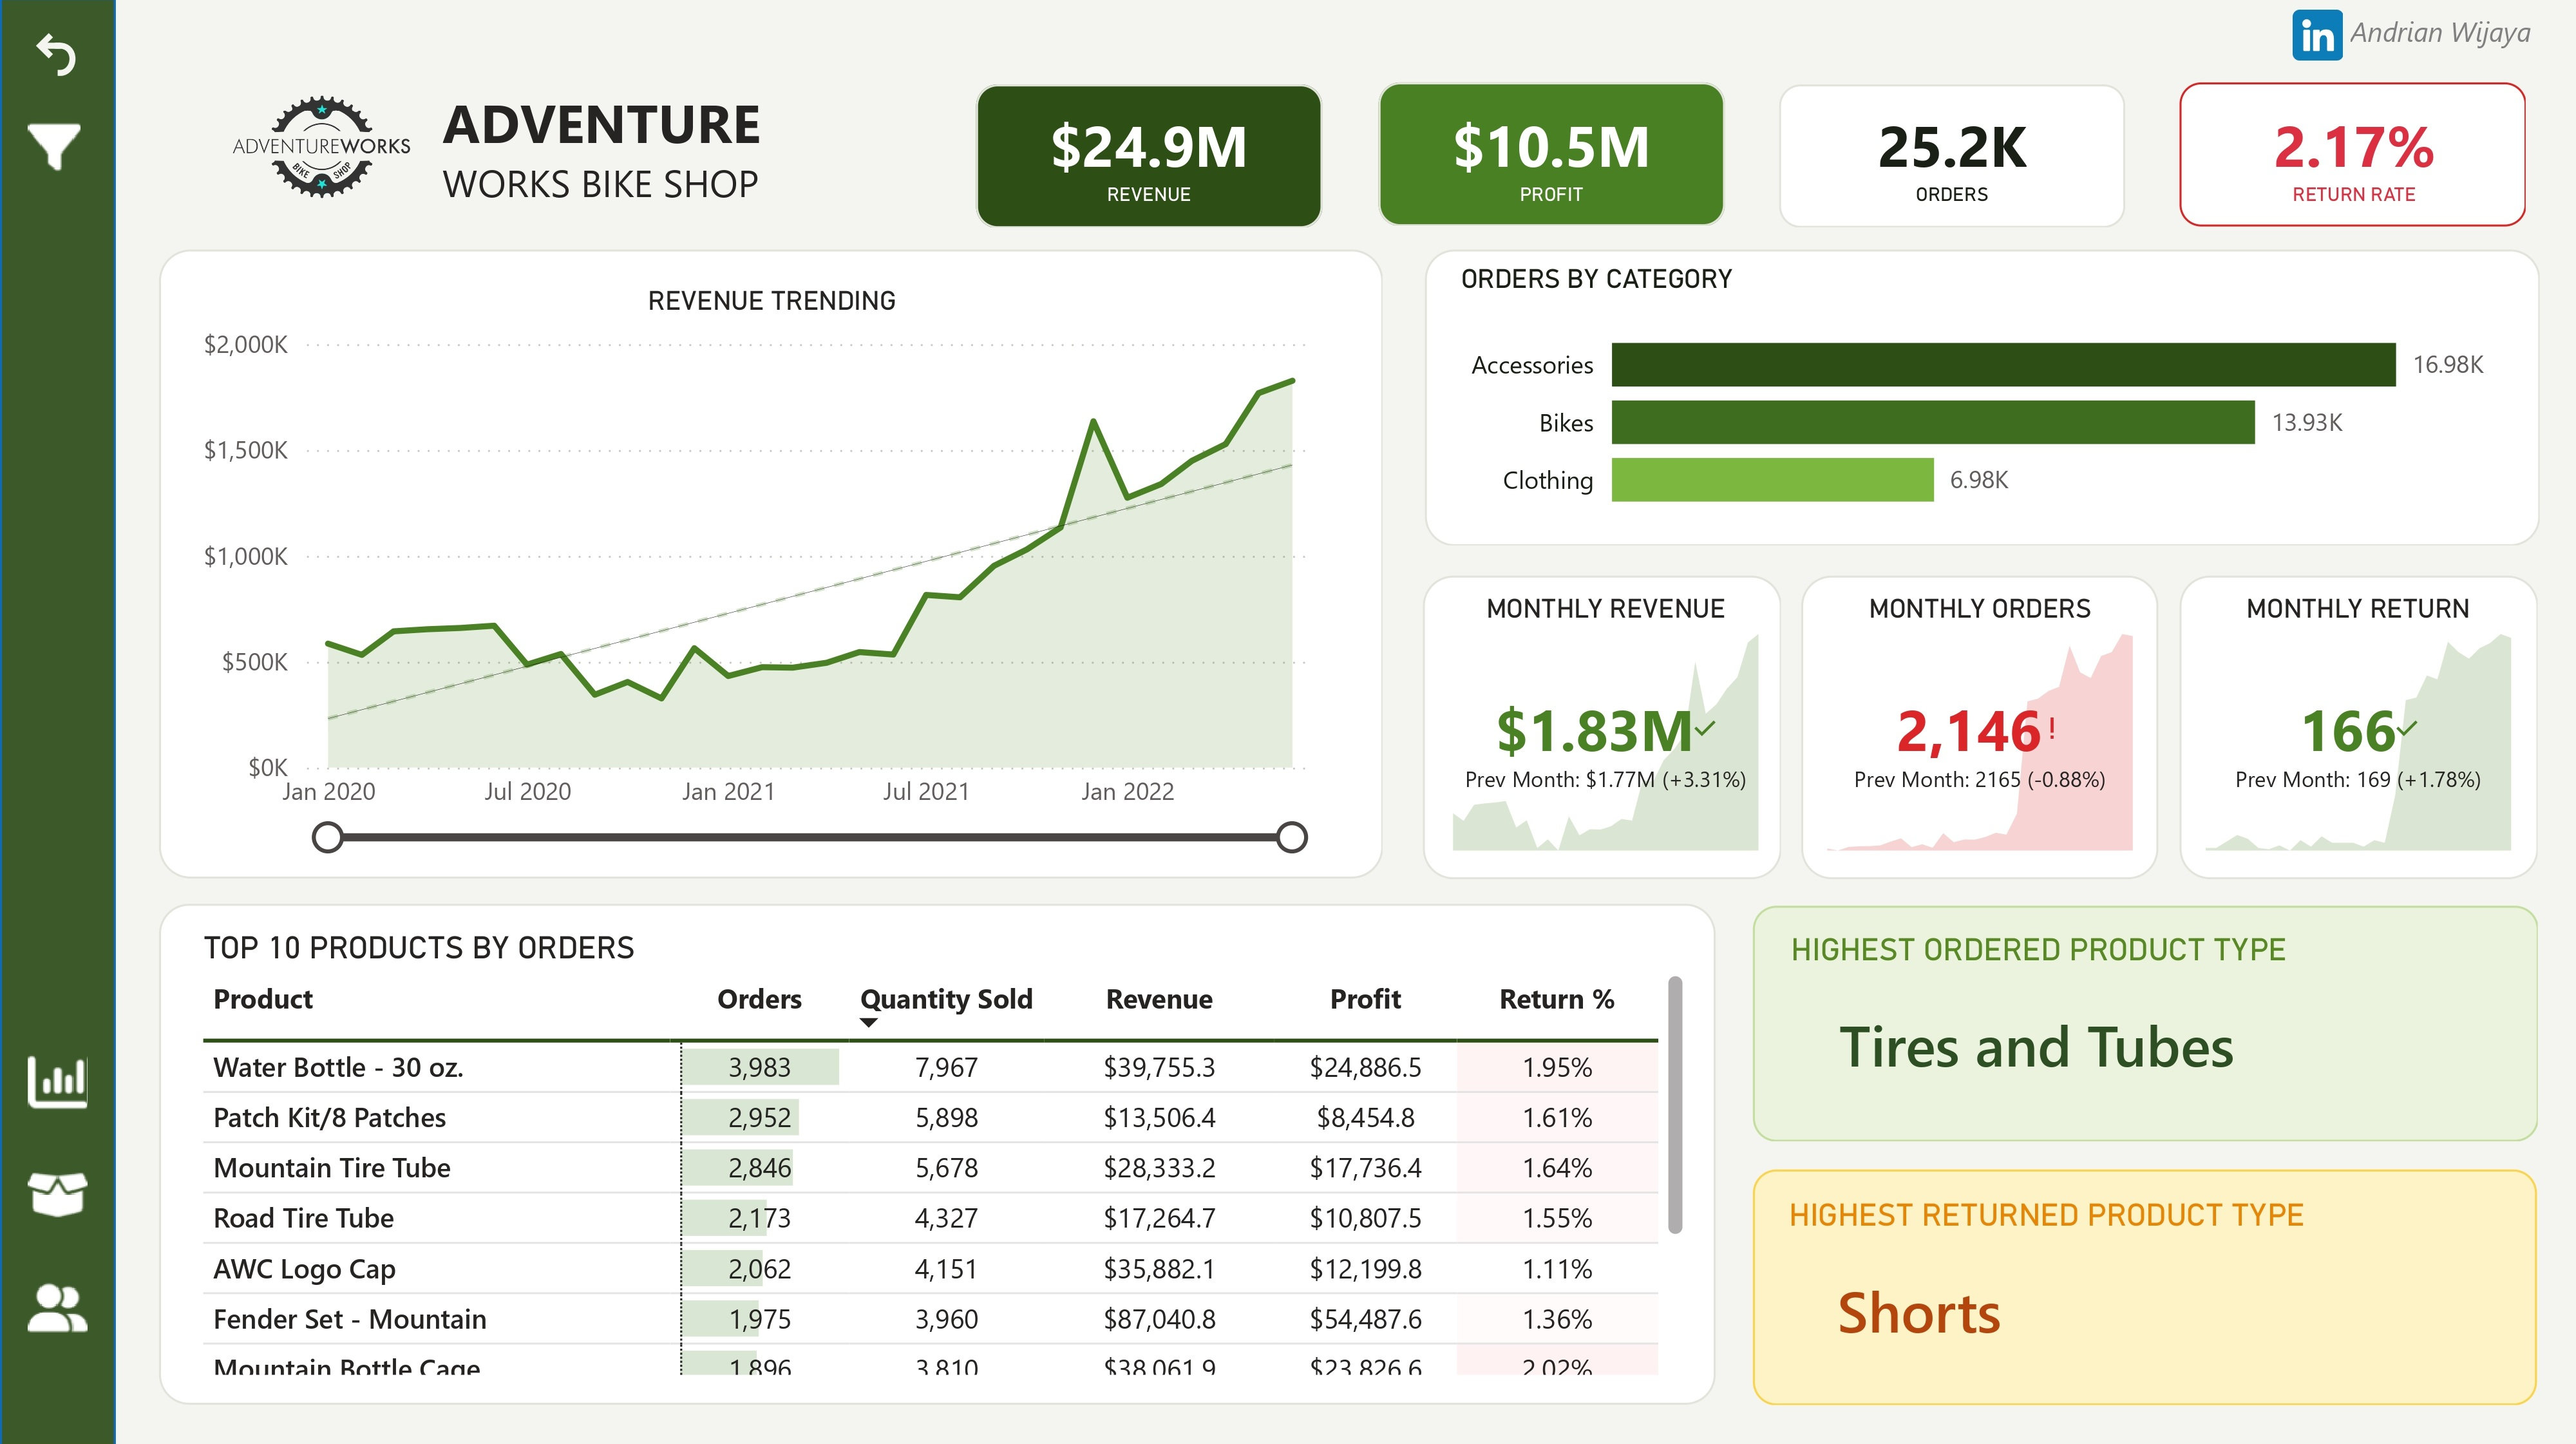

This screenshot's page, from the dashboard's own definition file:
{"tool":"powerbi","page":{"name":"Exect Dashboard","canvas":[1280,720],"ordinal":0},"visuals":[{"type":"textbox","title":"linkdin","box":[1163.7,3.4,109.6,29.6],"z":0,"group":"g11"},{"type":"image","box":[106.3,44.1,108.3,60.8],"z":0,"group":"g10"},{"type":"shape","title":"Order Category","box":[707.7,125,554.2,147.4],"z":0,"group":"g8"},{"type":"shape","title":"Weekly Revenue","box":[79,125.1,608.3,312.5],"z":0,"group":"g9"},{"type":"shape","box":[707.3,286.8,178.3,150.8],"z":0,"group":"g5"},{"type":"group","id":"g1","title":"Monthly Orders","box":[895.6,286.8,177.5,150.8],"z":0,"group":"g7"},{"type":"shape","box":[895.6,286.8,177.5,150.8],"z":0,"group":"g1"},{"type":"shape","box":[1083.1,286.8,178.3,150.8],"z":0,"group":"g3"},{"type":"group","id":"g2","title":"Top 10 Product","box":[78.7,450,773.5,248.9],"z":0},{"type":"shape","title":"Shape","box":[78.7,450,773.5,248.9],"z":0,"group":"g2"},{"type":"shape","title":"Shape","box":[870.6,450.8,390.5,117.2],"z":0,"group":"g6"},{"type":"actionButton","box":[10,519.2,37.5,39.2],"z":0,"group":"g13"},{"type":"shape","title":"Shape","box":[871.4,581.8,389.6,117.2],"z":0,"group":"g4"},{"type":"image","box":[1139.2,6.1,25.3,25.3],"z":1000,"group":"g11"},{"type":"textbox","box":[215,38.2,197.7,72.7],"z":1000,"group":"g10"},{"type":"clusteredBarChart","title":"ORDERS BY CATEGORY","fields":{"Y":["Measure Table.Total Orders"],"Category":["Product Categories Lookup.CategoryName"]},"box":[720.2,132.3,520.4,135.9],"z":1000,"group":"g8"},{"type":"lineChart","title":"REVENUE TRENDING","fields":{"Y":["Measure Table.Total Revenue"],"Category":["Calendar Lookup.Year","Calendar Lookup.Start of Quarter","Calendar Lookup.Start of Month"]},"box":[95.7,143,575.2,285.4],"z":1000,"group":"g9"},{"type":"group","id":"g3","title":"Monthly Return","box":[1083.1,286.8,178.3,150.8],"z":1000,"group":"g7"},{"type":"kpi","title":"MONTHLY REVENUE","fields":{"Indicator":["Measure Table.Total Revenue"],"TrendLine":["Calendar Lookup.Start of Month"],"Goal":["Measure Table.Previous Month of Revenue"]},"box":[717.3,295.8,161.8,132.6],"z":1000,"group":"g5"},{"type":"kpi","title":"MONTHLY ORDERS","fields":{"TrendLine":["Calendar Lookup.Start of Month"],"Indicator":["Measure Table.Total Orders"],"Goal":["Measure Table.Previous Month Orders"]},"box":[903.8,295.8,161.8,132.6],"z":1000,"group":"g1"},{"type":"kpi","title":"MONTHLY RETURN","fields":{"TrendLine":["Calendar Lookup.Start of Month"],"Indicator":["Measure Table.Total Returns"],"Goal":["Measure Table.Previous Month Returns"]},"box":[1091,295.8,161.8,132.6],"z":1000,"group":"g3"},{"type":"pivotTable","title":"TOP 10 PRODUCTS BY ORDERS","fields":{"Rows":["Product Lookup.ProductName"],"Values":["Measure Table.Total Orders","Measure Table.Quantity Sold","Measure Table.Total Revenue","Measure Table.Total Profit","Measure Table.Return Rate"]},"box":[95.5,462.1,745.9,226.7],"z":1000,"group":"g2"},{"type":"cardVisual","title":"HIGHEST ORDERED PRODUCT TYPE","fields":{"Data":["Min(Product Subcategories Lookup.SubcategoryName)"]},"box":[884.4,462.9,368.9,90.5],"z":1000,"group":"g6"},{"type":"actionButton","box":[10,575,37.5,39.2],"z":1000,"group":"g13"},{"type":"group","id":"g4","title":"Highest Return","box":[871.4,581.8,389.6,117.2],"z":1000},{"type":"cardVisual","title":"HIGHEST RETURNED PRODUCT TYPE","fields":{"Data":["Min(Product Subcategories Lookup.SubcategoryName)"]},"box":[884.3,594.7,368.9,90.5],"z":1000,"group":"g4"},{"type":"group","id":"g5","title":"Monthly Revenue","box":[707.3,286.8,178.3,150.8],"z":2000,"group":"g7"},{"type":"group","id":"g6","title":"Highest Product","box":[870.6,450.8,390.5,117.2],"z":2000},{"type":"actionButton","box":[10,630.9,37.5,39.2],"z":2000,"group":"g13"},{"type":"group","id":"g7","title":"KPI","box":[707.3,286.8,554.2,150.8],"z":3000},{"type":"group","id":"g8","title":"Order Category","box":[707.7,125,554.2,147.4],"z":4000},{"type":"group","id":"g9","title":"Weekly Revenue","box":[79,125.1,608.3,312.5],"z":5000},{"type":"group","id":"g10","title":"Logo","box":[106.3,38.2,306.4,72.7],"z":6000},{"type":"group","id":"g11","title":"Linkedin","box":[1139.2,3.4,134.1,29.6],"z":7000},{"type":"group","id":"g12","title":"Menu","box":[0,0,200.8,720],"z":8000},{"type":"cardVisual","fields":{"Data":["Measure Table.Total Revenue","Measure Table.Total Profit","Measure Table.Total Orders","Measure Table.Return Rate"]},"box":[475.4,26.9,804.6,105.4],"z":9000},{"type":"shape","title":"Menu Bar","box":[0,0,57.5,720],"z":9500,"group":"g12"},{"type":"actionButton","title":"Reset Filter","box":[13.1,11.5,30,31.5],"z":10000,"group":"g12"},{"type":"group","id":"g13","title":"Button","box":[10,519.2,37.5,150.8],"z":11000,"group":"g12"},{"type":"actionButton","box":[10,56.7,35.8,34.2],"z":12000,"group":"g12"}]}

Visuals, with their boxes on the page's 1280x720 design canvas (x1, y1, x2, y2). These are canvas units, not pixel positions in the 2576x1444 screenshot, which may show the page scaled, cropped or inside an application window:
"linkdin" textbox: 1164 3 1273 33
image: 106 44 215 105
"Order Category" shape: 708 125 1262 272
"Weekly Revenue" shape: 79 125 687 438
shape: 707 287 886 438
"Monthly Orders" group: 896 287 1073 438
shape: 896 287 1073 438
shape: 1083 287 1261 438
"Top 10 Product" group: 79 450 852 699
"Shape" shape: 79 450 852 699
"Shape" shape: 871 451 1261 568
actionButton: 10 519 48 558
"Shape" shape: 871 582 1261 699
image: 1139 6 1164 31
textbox: 215 38 413 111
"ORDERS BY CATEGORY" clusteredBarChart: 720 132 1241 268
"REVENUE TRENDING" lineChart: 96 143 671 428
"Monthly Return" group: 1083 287 1261 438
"MONTHLY REVENUE" kpi: 717 296 879 428
"MONTHLY ORDERS" kpi: 904 296 1066 428
"MONTHLY RETURN" kpi: 1091 296 1253 428
"TOP 10 PRODUCTS BY ORDERS" pivotTable: 96 462 841 689
"HIGHEST ORDERED PRODUCT TYPE" cardVisual: 884 463 1253 553
actionButton: 10 575 48 614
"Highest Return" group: 871 582 1261 699
"HIGHEST RETURNED PRODUCT TYPE" cardVisual: 884 595 1253 685
"Monthly Revenue" group: 707 287 886 438
"Highest Product" group: 871 451 1261 568
actionButton: 10 631 48 670
"KPI" group: 707 287 1262 438
"Order Category" group: 708 125 1262 272
"Weekly Revenue" group: 79 125 687 438
"Logo" group: 106 38 413 111
"Linkedin" group: 1139 3 1273 33
"Menu" group: 0 0 201 720
cardVisual - Measure Table.Total Revenue x Measure Table.Total Profit: 475 27 1280 132
"Menu Bar" shape: 0 0 58 720
"Reset Filter" actionButton: 13 12 43 43
"Button" group: 10 519 48 670
actionButton: 10 57 46 91
